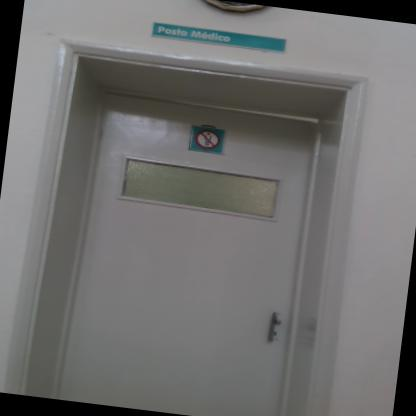closed: (16, 27, 384, 415)
